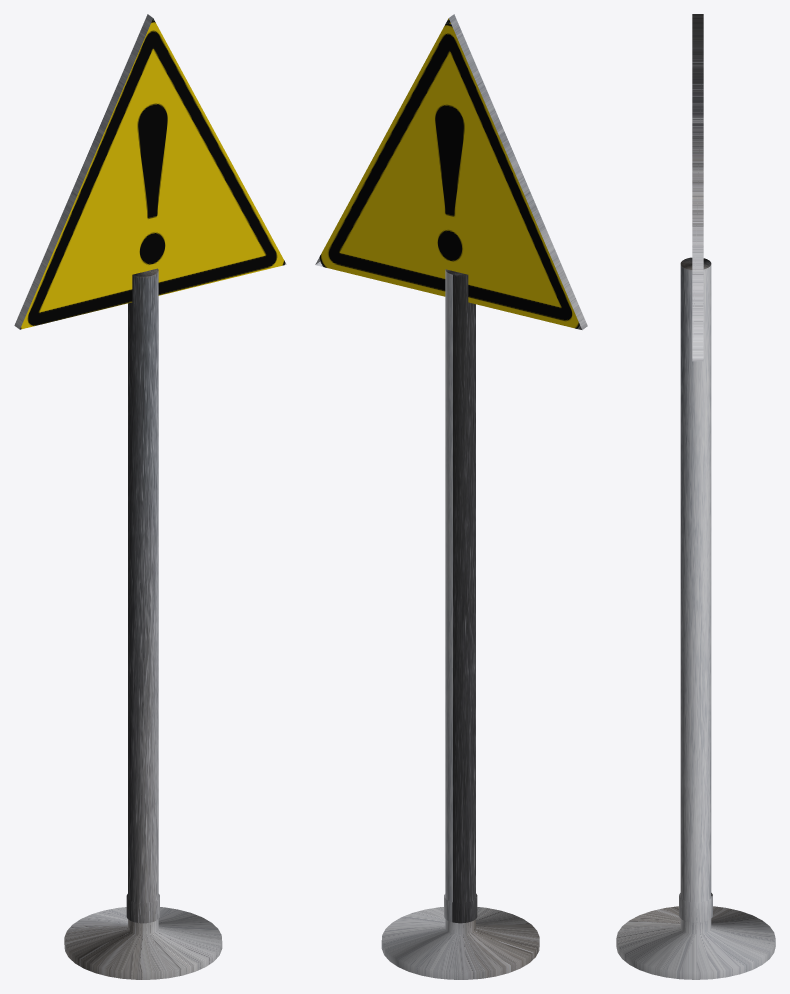
The model's file is Trafficlights2.fbx.
3 views of the same model, side by side, from view 1: azimuth 30°, elevation 25°; view 2: azimuth 150°, elevation 25°; view 3: azimuth 270°, elevation 25° (orthographic).
Parts seen in each view (by area): view 1: Trafficsignal2; view 2: Trafficsignal2; view 3: Trafficsignal2.
Boxes of the visible parts, <box> form: Trafficsignal2: <box>14,14,286,979</box>; Trafficsignal2: <box>315,14,587,979</box>; Trafficsignal2: <box>616,14,775,979</box>.
Size of the model in its own units: 141 by 470 by 72.6.
